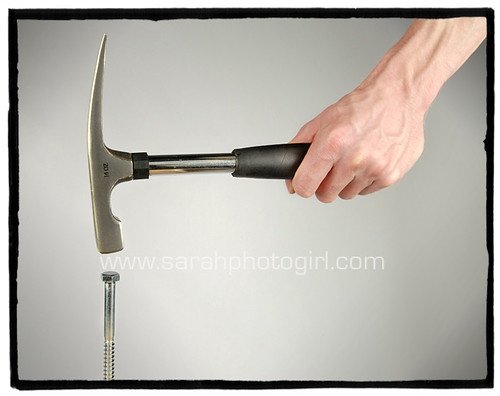hammer: (88, 32, 290, 254)
